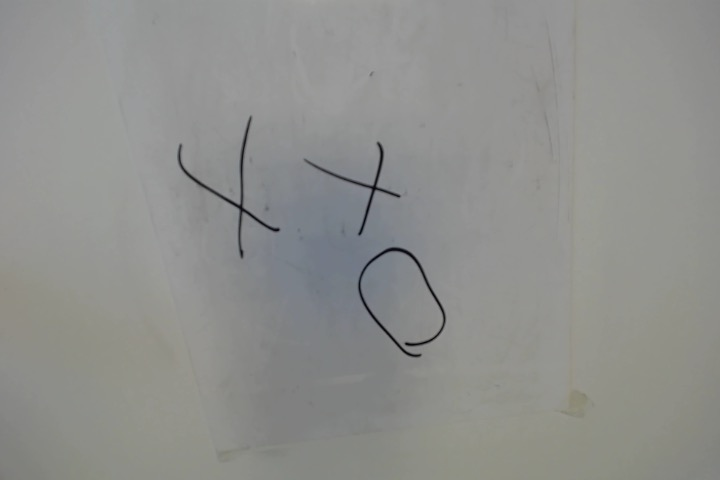0: (353, 243, 455, 364)
x: (178, 127, 290, 254), (306, 140, 409, 234)
